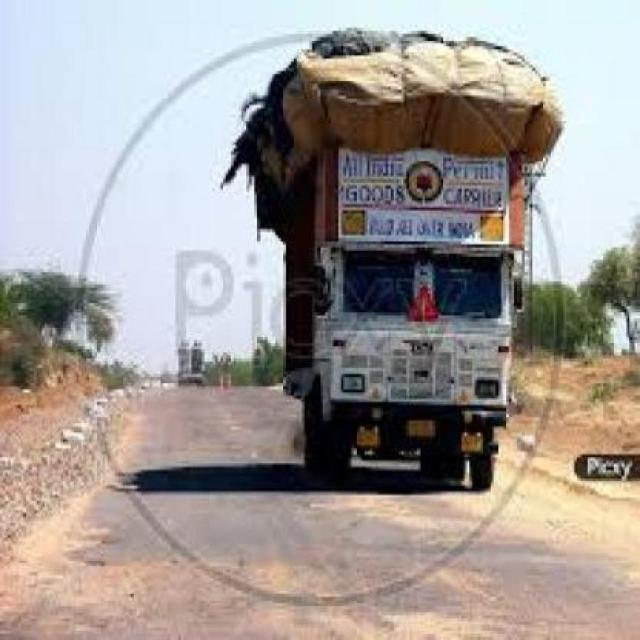goods: (224, 34, 566, 241)
truck: (270, 143, 526, 494)
